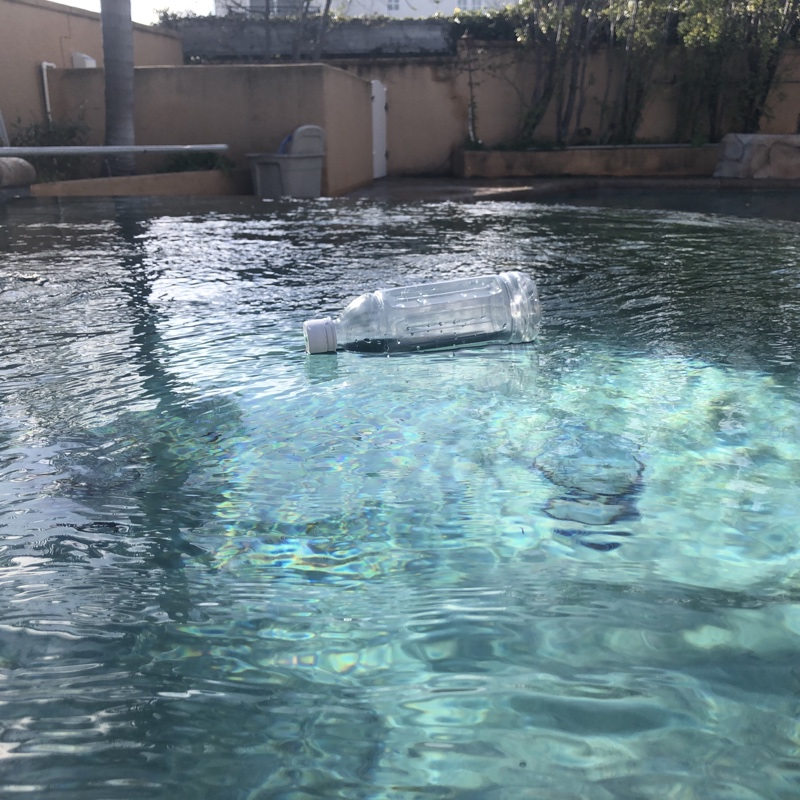Plastic Bottle: (301, 267, 545, 365)
